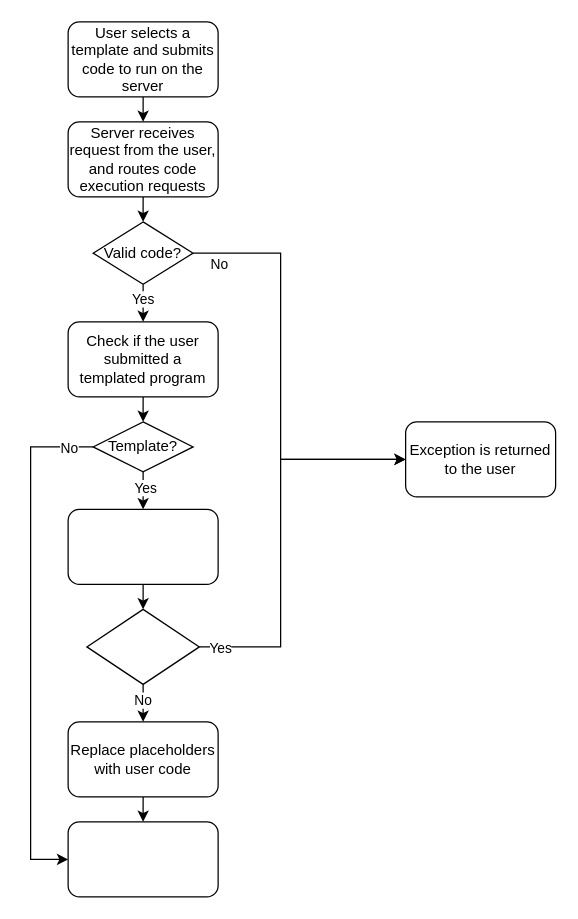
Some shapes in this 578 by 919 pixel diagram are drawn without their labels. The shapes that lost their labels are listed below. From the top down, each one's centre as x and y in pixels, then its label:
[142,546]: Check code against injection attacks
[142,646]: Malicious code?
[142,859]: Execute 42 program and return result to user
